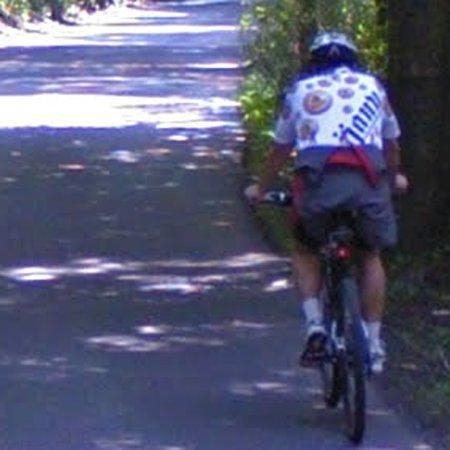bicycles: (301, 227, 371, 445)
